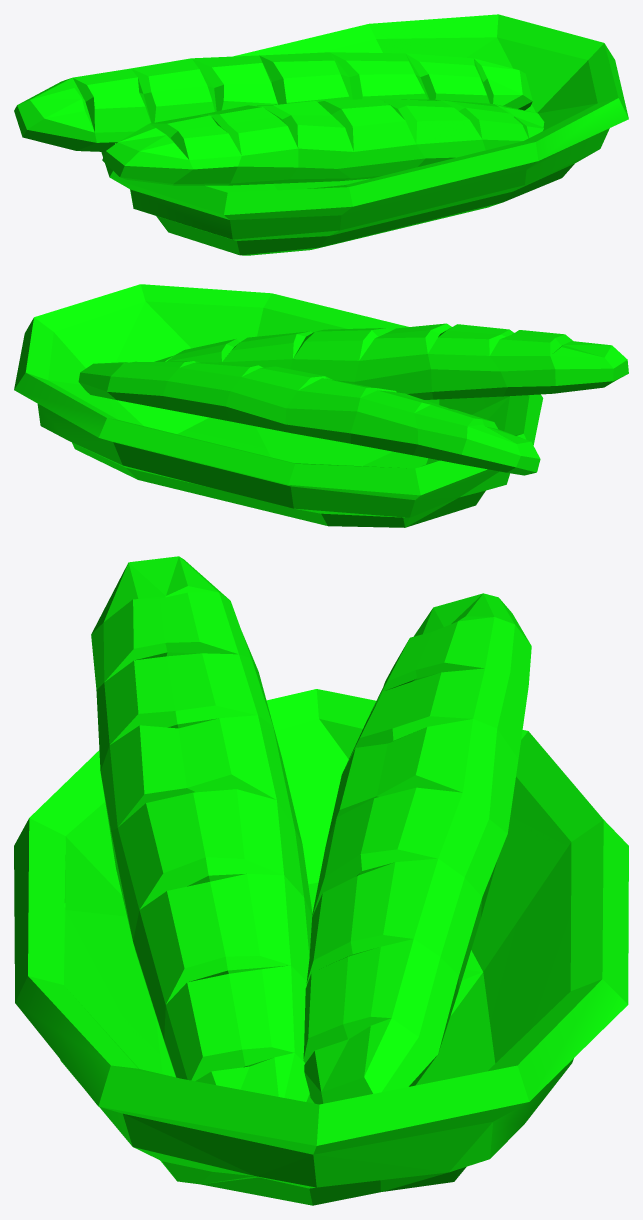
Rendered from SM_Basket_Baguette_Fantasy.fbx.
The picture shows the model from 3 angles, top to bottom: view 1: azimuth 30°, elevation 25°; view 2: azimuth 150°, elevation 25°; view 3: azimuth 270°, elevation 25°; orthographic projection. The views are drawn at different scales.
Parts seen in each view (by area): view 1: basket-baguette-fantasy; view 2: basket-baguette-fantasy; view 3: basket-baguette-fantasy.
Part boxes in pixels (x1,y1,x2,y2): basket-baguette-fantasy: (14, 14, 628, 255); basket-baguette-fantasy: (14, 284, 628, 527); basket-baguette-fantasy: (14, 556, 628, 1205).
Bounding box in the file's own units: 0.6619 × 0.1894 × 0.3685.
